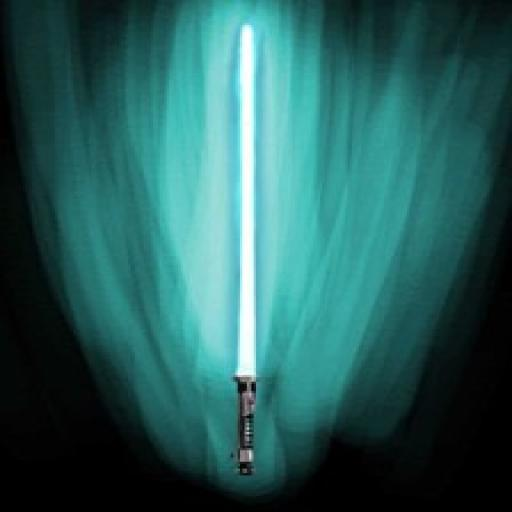lightsaber: (227, 21, 260, 475)
